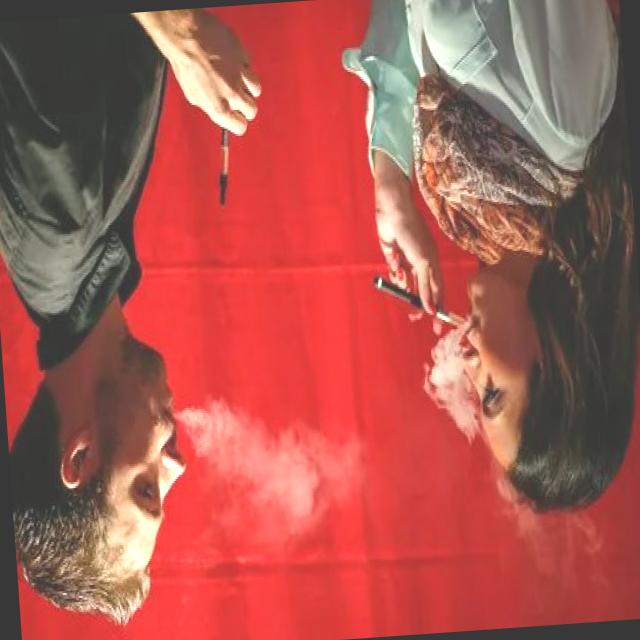cigarette: (370, 268, 476, 342), (207, 115, 241, 208)
